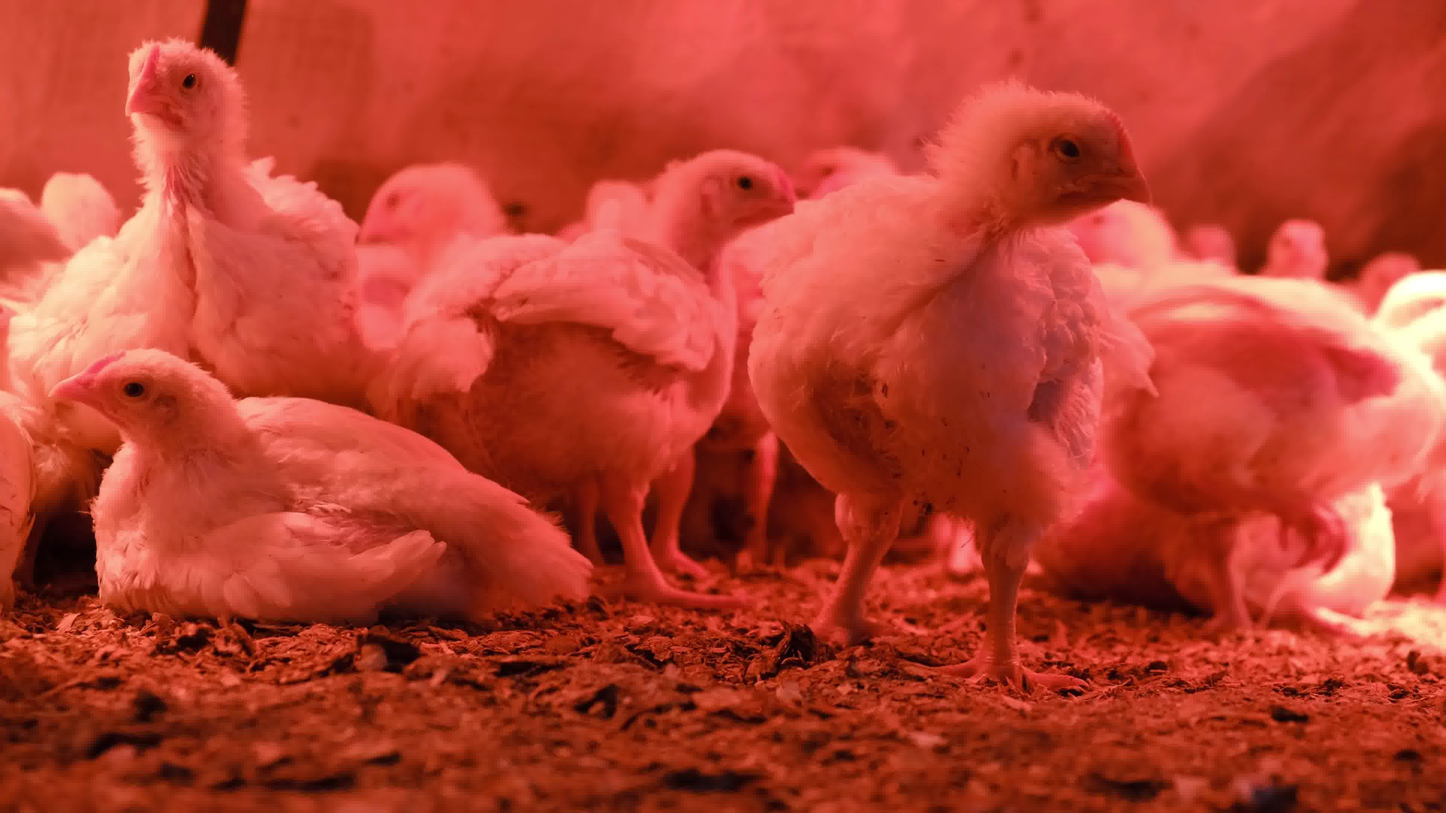AbNormal: (13, 358, 651, 627)
Normal: (712, 100, 1135, 694), (427, 145, 800, 600), (53, 38, 422, 352), (1137, 262, 1446, 625), (322, 139, 514, 271), (1258, 201, 1342, 284)
